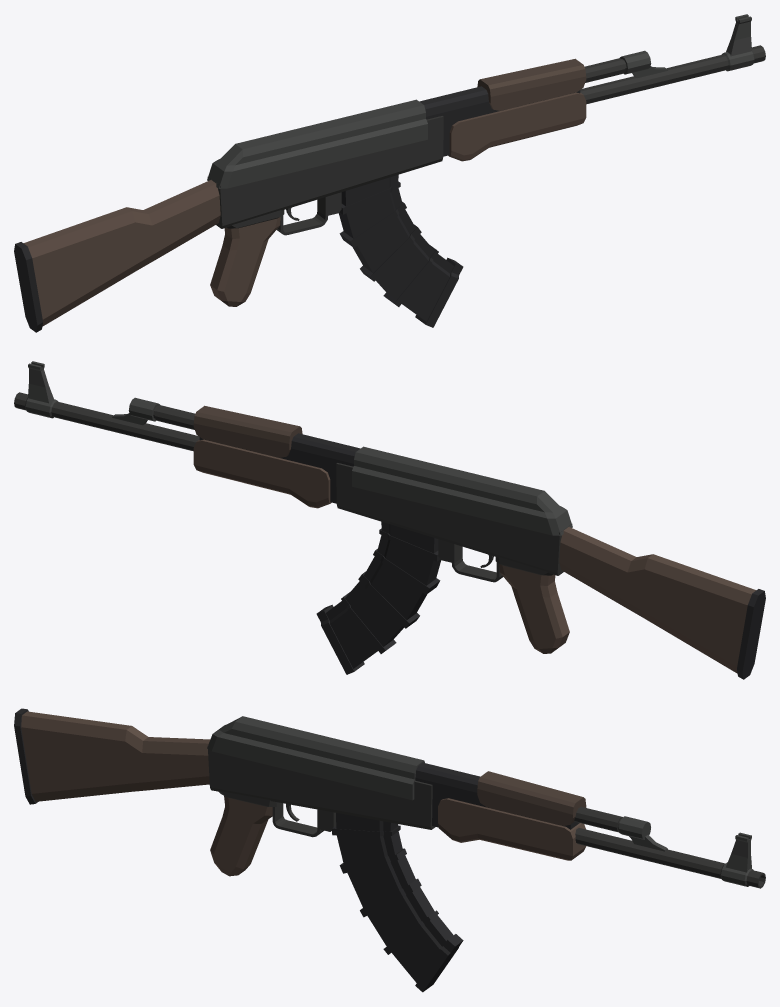
3 views of the same model, one above another, from view 1: azimuth 30°, elevation 25°; view 2: azimuth 150°, elevation 25°; view 3: azimuth 330°, elevation 25° (orthographic).
Parts seen in each view (by area): view 1: AssaultRifle_2_Cube.136; view 2: AssaultRifle_2_Cube.136; view 3: AssaultRifle_2_Cube.136.
Boxes of the visible parts, x1,y1,x2,y2 form: AssaultRifle_2_Cube.136: [14, 14, 765, 332]; AssaultRifle_2_Cube.136: [14, 361, 765, 679]; AssaultRifle_2_Cube.136: [14, 708, 765, 992].
Size of the model in its own units: 5.42 by 1.6 by 0.196.
Materials: 1 (1 with a texture image).
